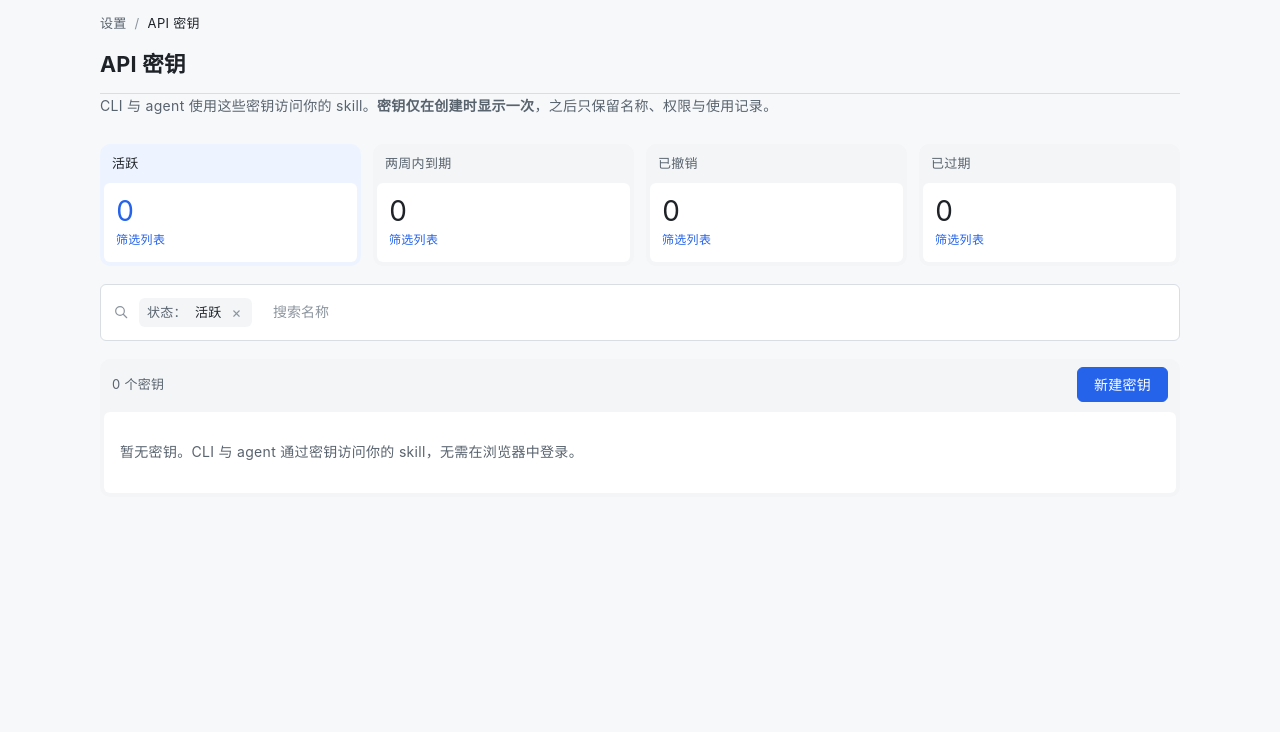
Test: the credential screen › reads the picker day in the zone the date it sends is pinned to
The width and height of the screenshot is (1280, 732).
// The picker is on the form, and the form is one of the three screens this page carries.
What coordinates should you click on to do the following:
click the button "新建密钥"
I would click on:
 (1122, 384)
Its box is [1077,366,1168,402].
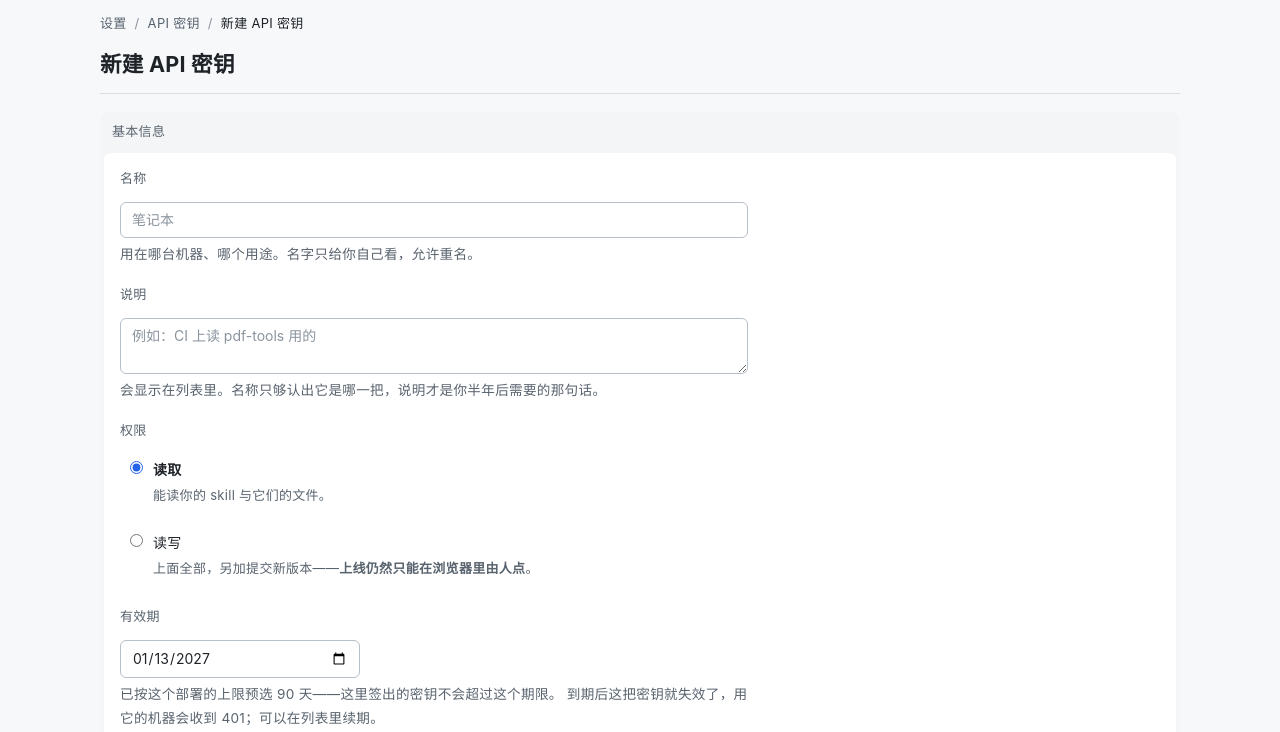
Check: the date field with id "key-expires" holds "2027-01-13", box [120,640,360,678]
